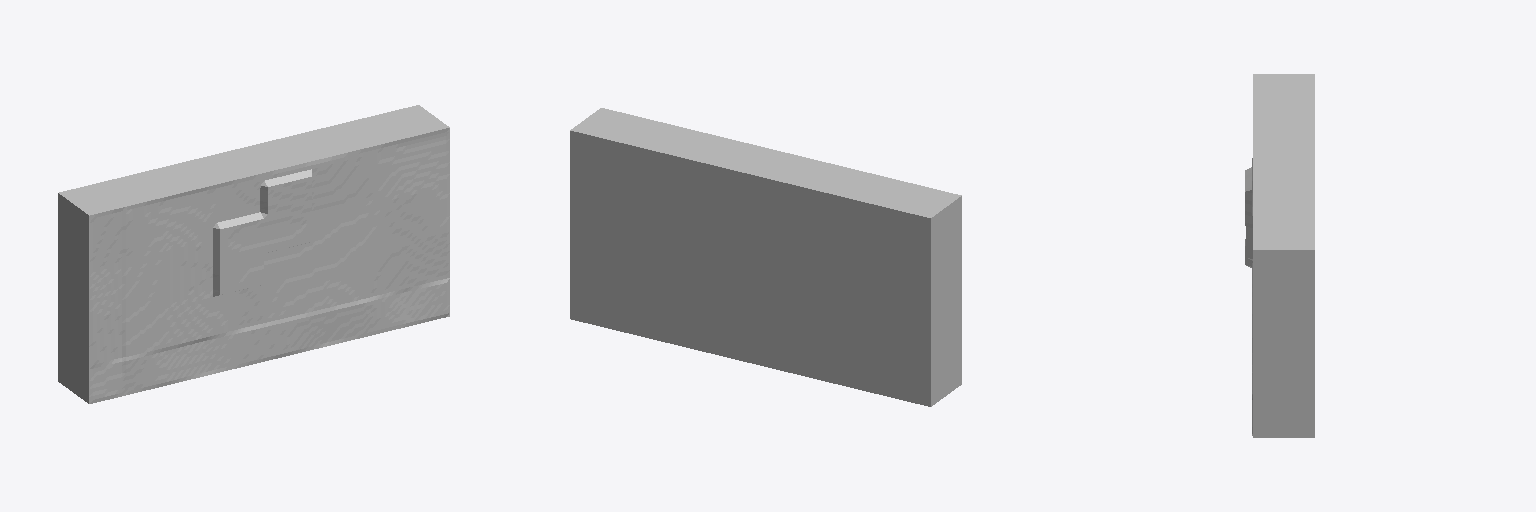
The model's file is rectangular_prism_bumps_2_7.obj.
3 views of the same model, side by side, from view 1: azimuth 30°, elevation 25°; view 2: azimuth 150°, elevation 25°; view 3: azimuth 270°, elevation 25° (orthographic).
Bounding box in the file's own units: 10 × 5 × 1.69.